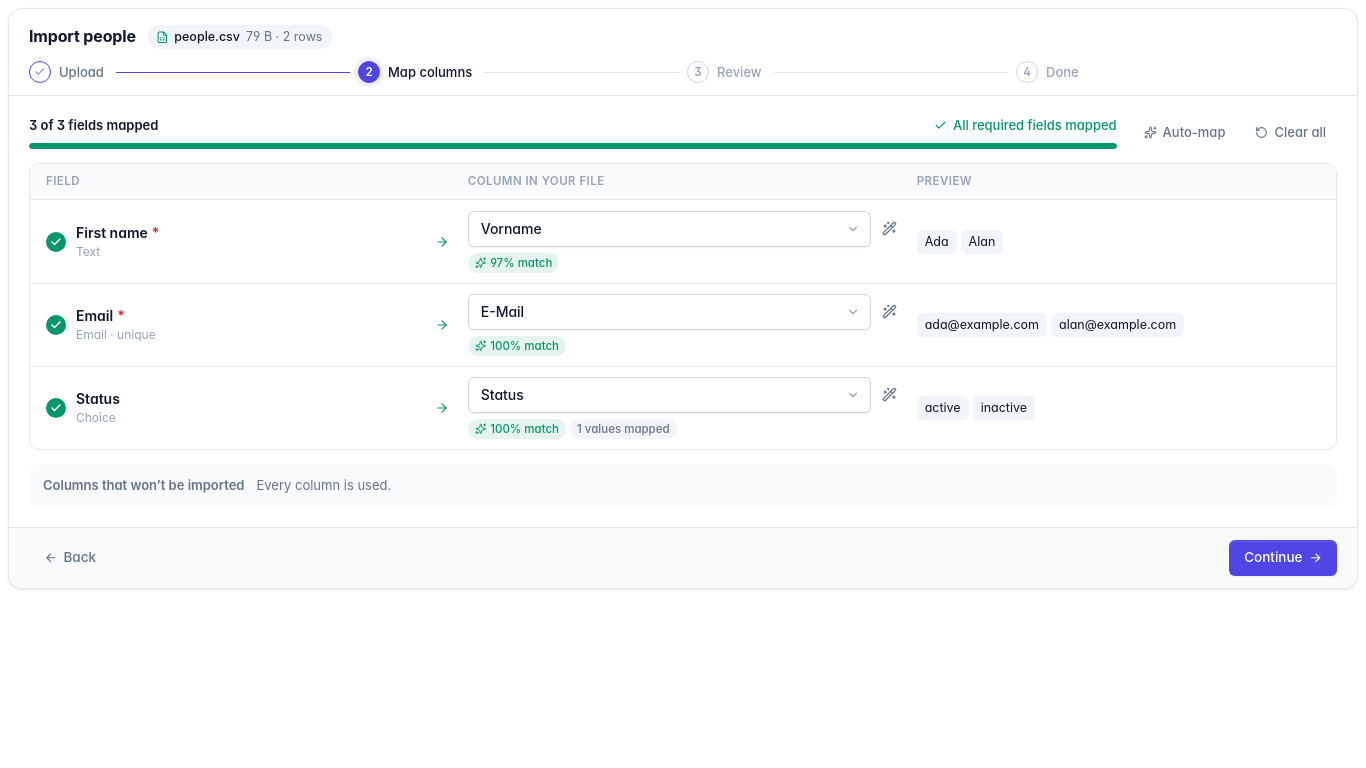
Test: <Importer> › goes from upload to mapping to review to complete
The width and height of the screenshot is (1366, 768).
Expected: the text "3 of 3 fields mapped" is shown, [29,116,158,135]
Expected: the text "Vorname" is shown, [481,220,542,237]
Click the button "Continue" at (1283,558), box [1229,540,1337,576]
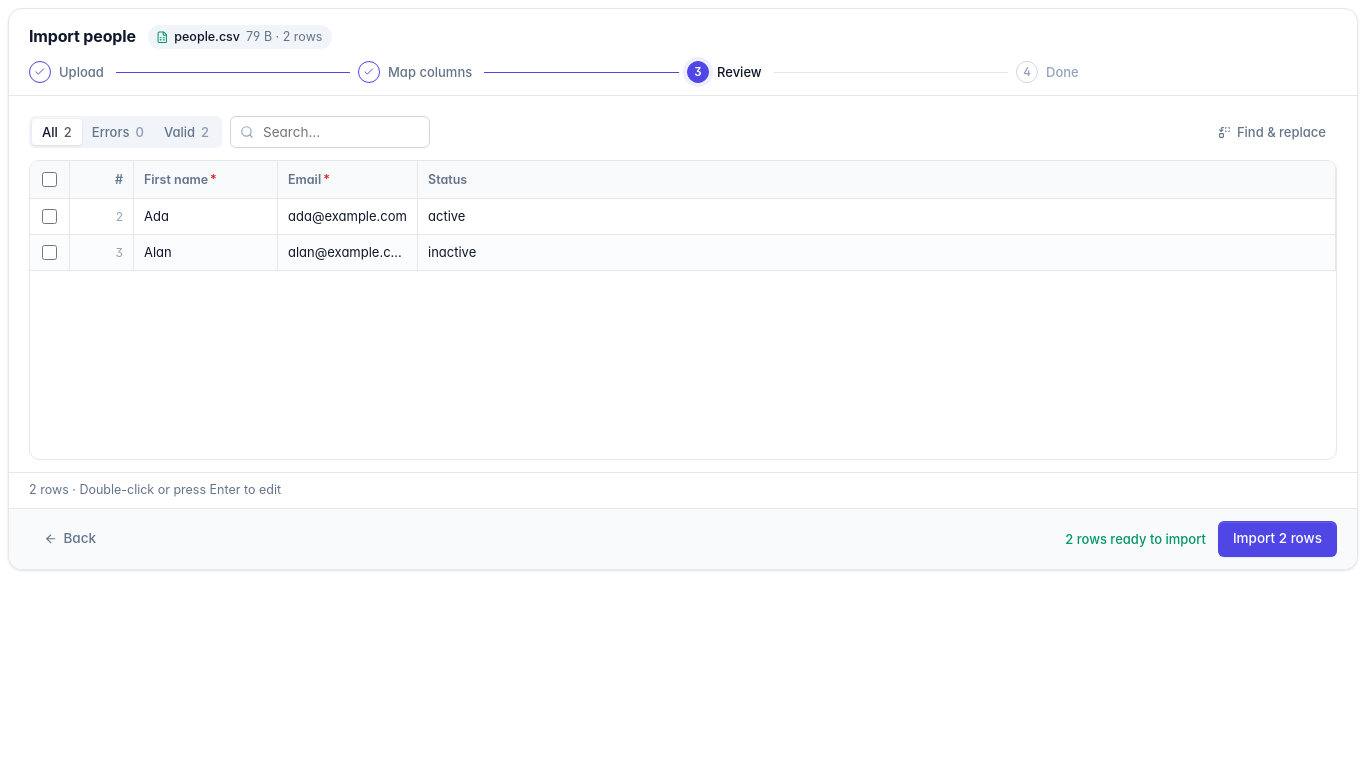
Expected: the text "2 rows ready to import" is shown, [1065,530,1206,548]
Click the button "Import 2 rows" at (1277,539), box [1218,521,1337,557]
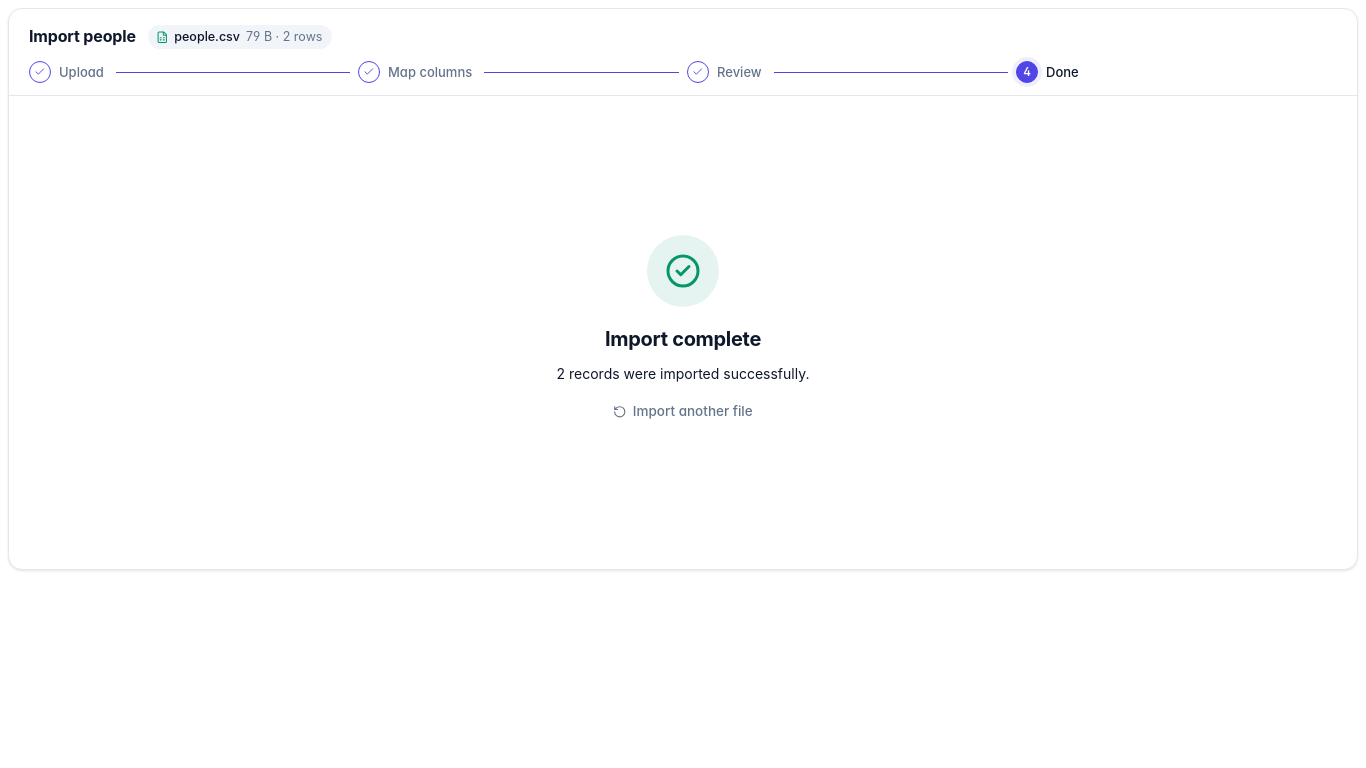
Expected: the heading "Import complete" is shown, [605,325,761,354]
